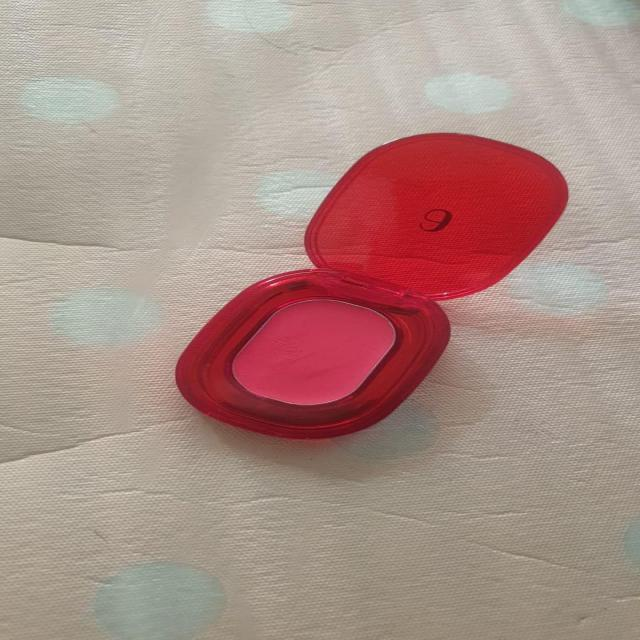blush: (184, 280, 458, 446)
